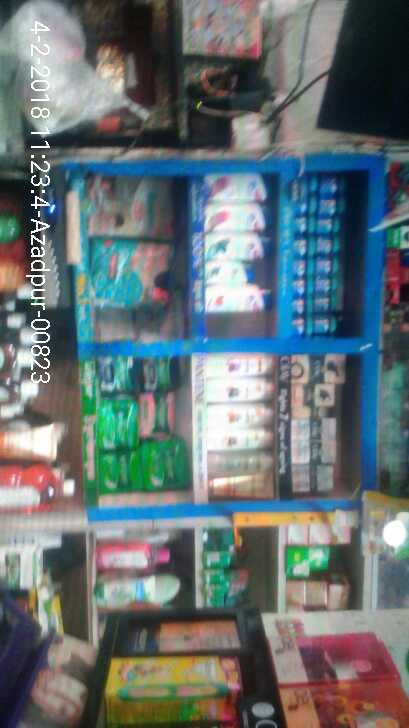vicks: (296, 177, 341, 337)
